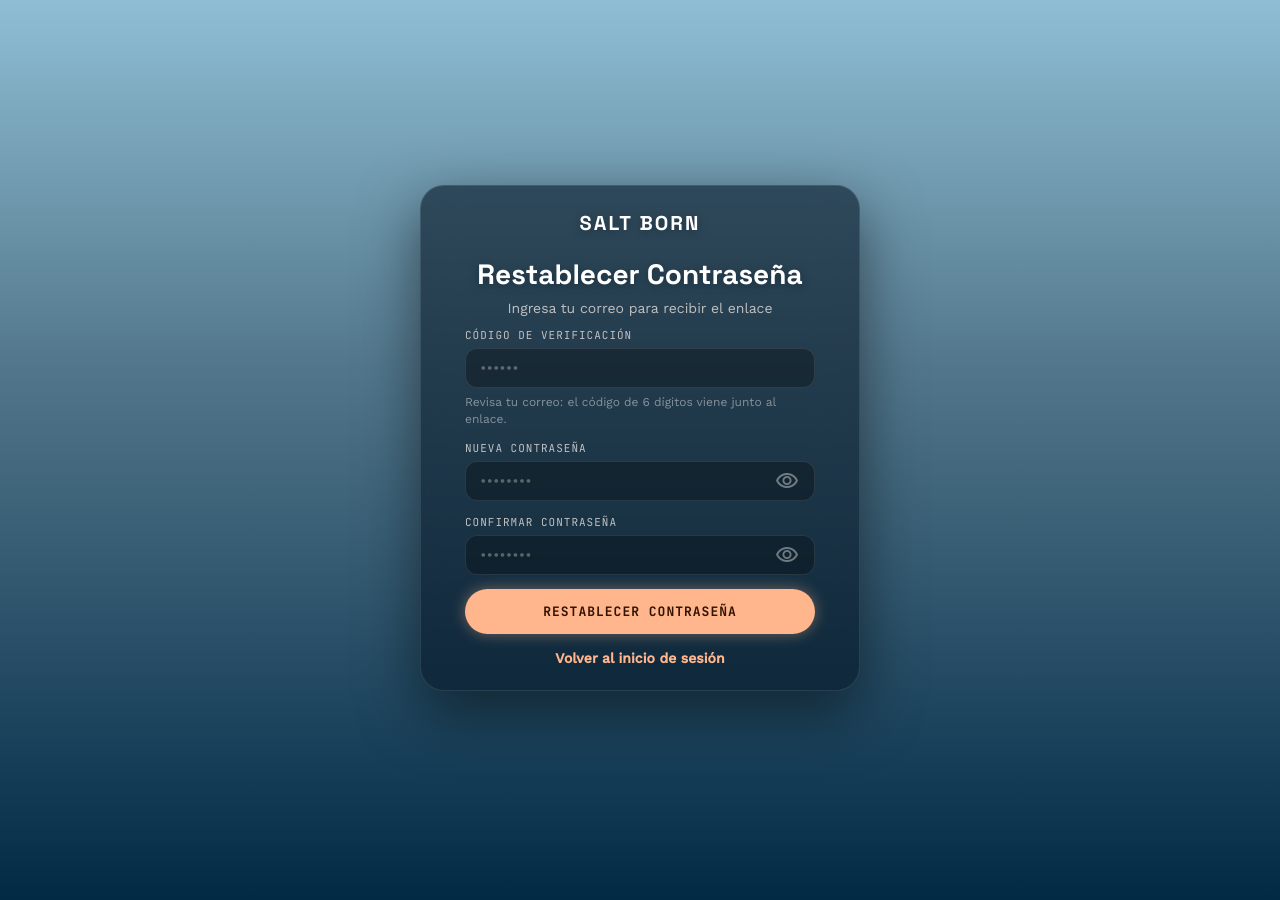
Test: ForgotPassword › al restablecer abre sesión y el final entra al juego
Type "123456" into the field labelled "Código de Verificación".
click(640, 368); type("123456")  # box [465, 348, 815, 388]
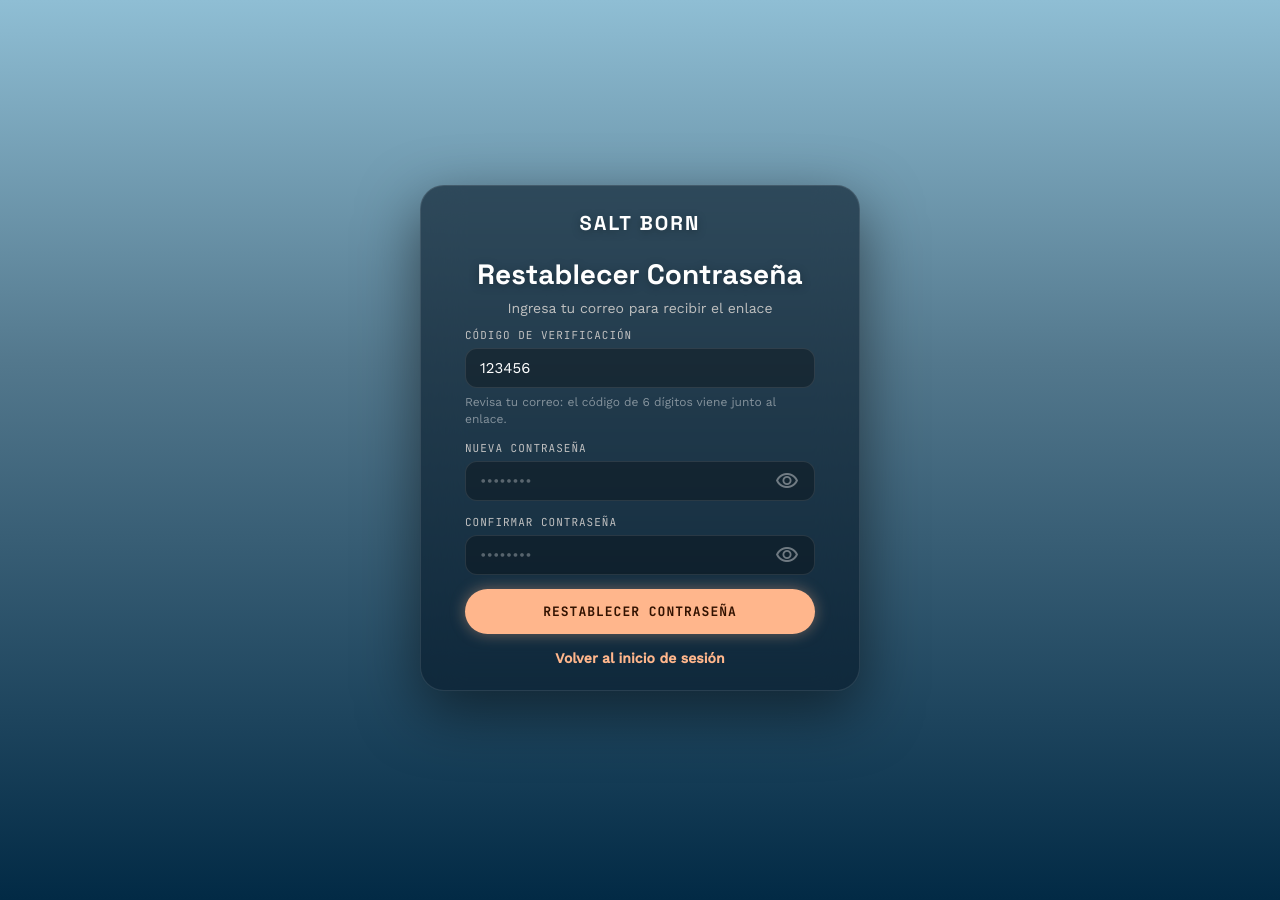
Type "Abcdef1!" into the password field labelled "Nueva Contraseña".
click(640, 481); type("Abcdef1!")  # box [465, 461, 815, 501]
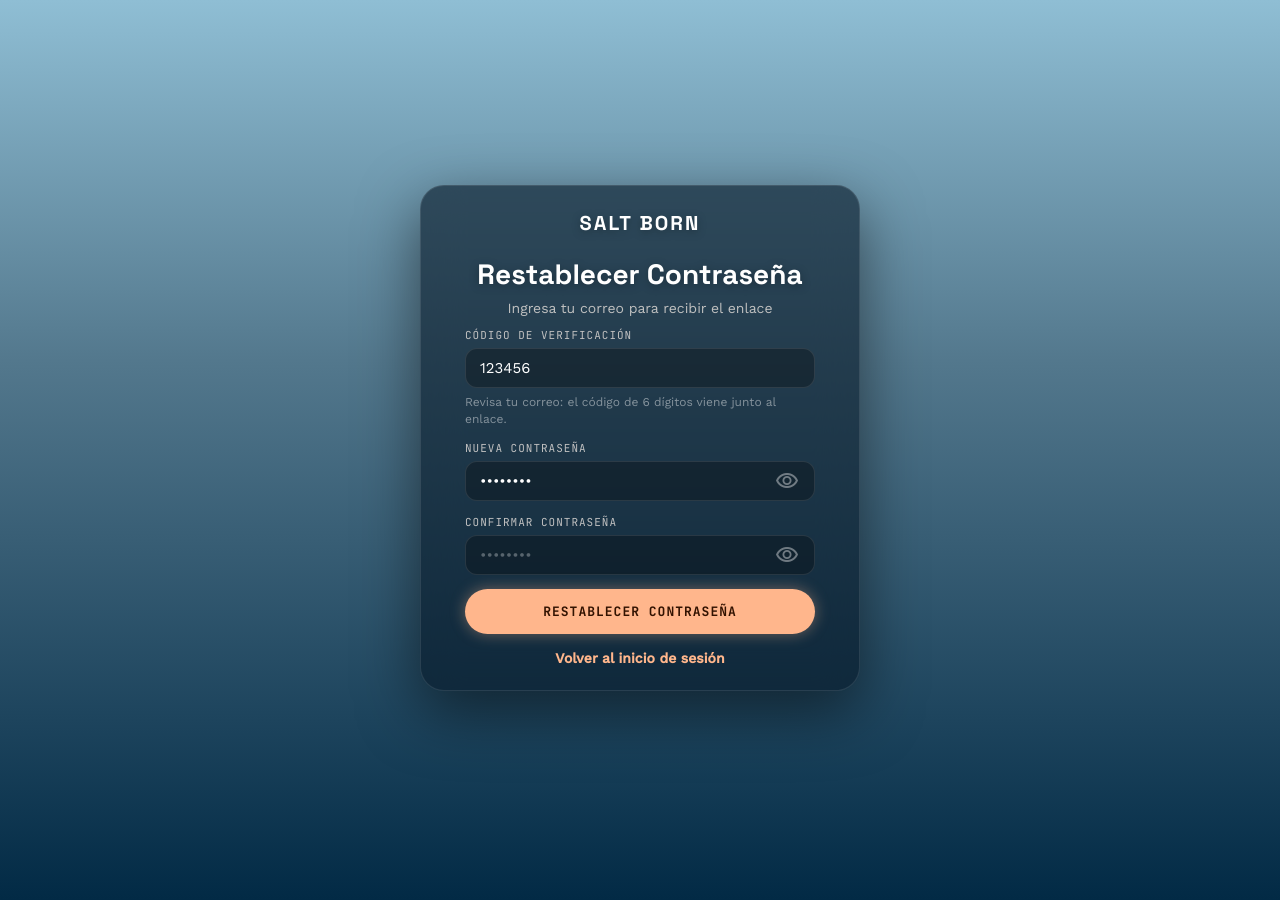
Type "Abcdef1!" into the password field labelled "Confirmar Contraseña".
click(640, 555); type("Abcdef1!")  # box [465, 535, 815, 575]
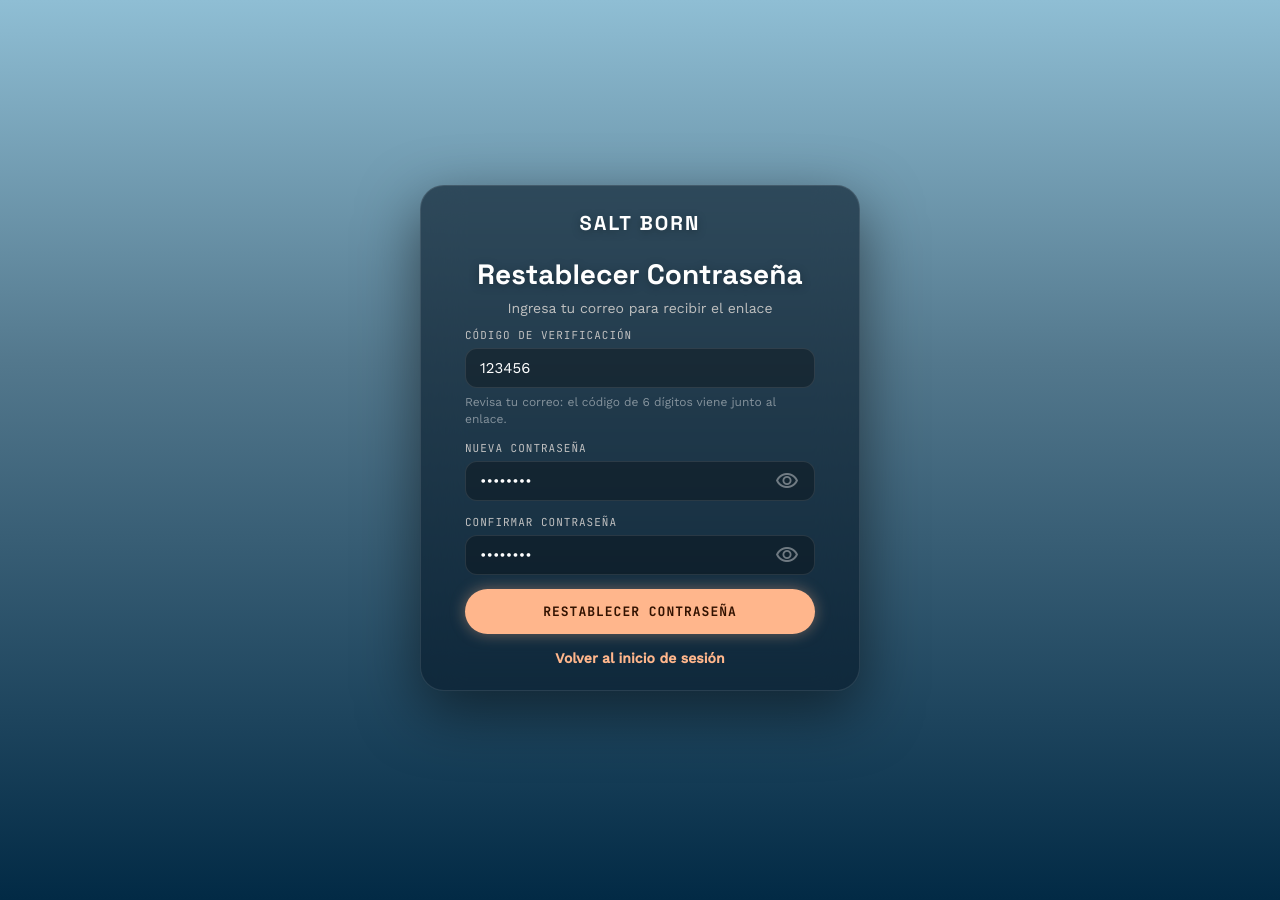
Click the button "Restablecer Contraseña".
click(640, 612)  # box [465, 589, 815, 634]
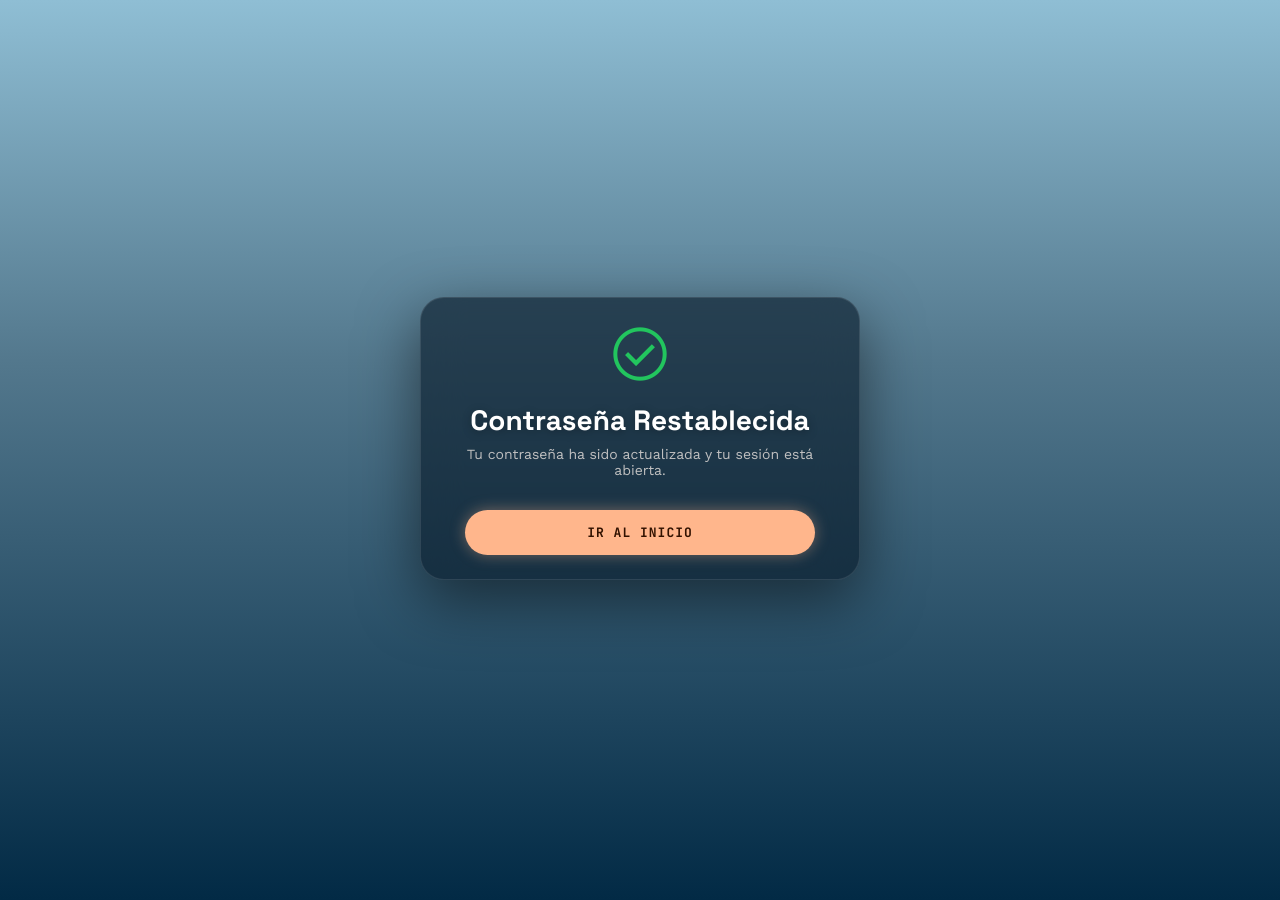
Now the heading "Contraseña Restablecida" is shown, box [465, 402, 815, 438]
Now the button "Ir al inicio" is shown, box [465, 510, 815, 554]
